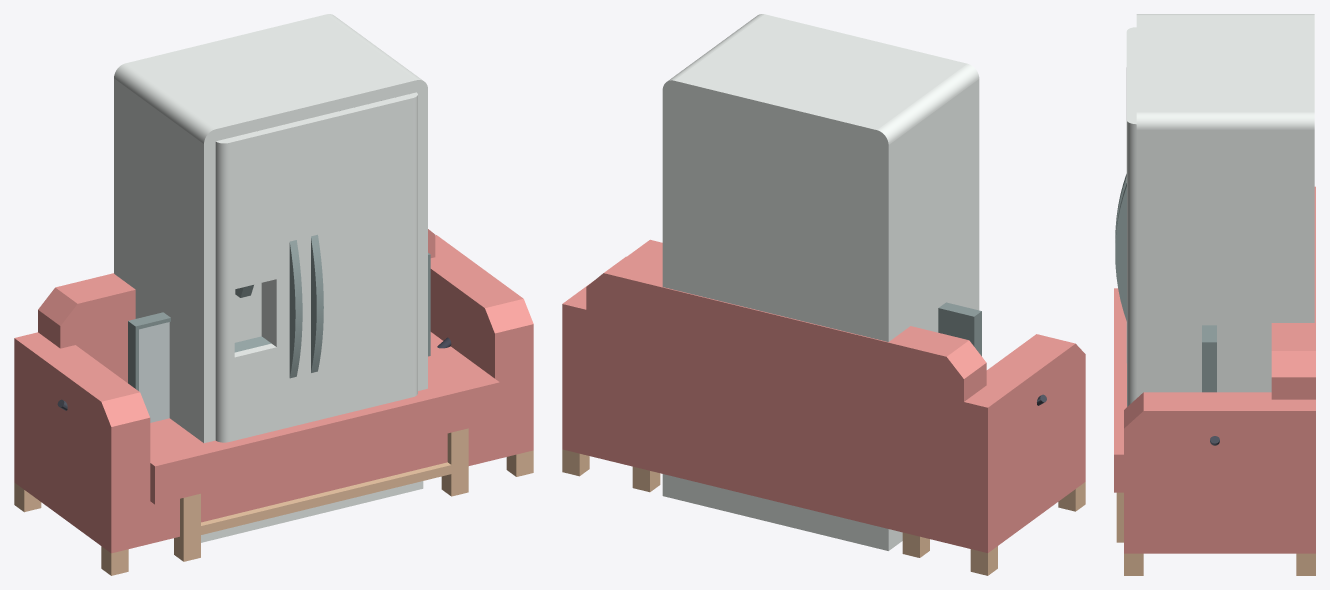
Rendered from ktv.glb.
3 renders of one model, left to right at view 1: azimuth 30°, elevation 25°; view 2: azimuth 150°, elevation 25°; view 3: azimuth 270°, elevation 25°, orthographic.
Parts seen in each view (by area): view 1: loungeSofa(Clone), Mesh kitchenFridgeLarge, doorRight, doorLeft, tableCoffee(Clone), televisionModern(Clone); view 2: loungeSofa(Clone), Mesh kitchenFridgeLarge, televisionModern(Clone), tableCoffee(Clone); view 3: Mesh kitchenFridgeLarge, loungeSofa(Clone), doorRight, televisionModern(Clone), doorLeft, tableCoffee(Clone).
Boxes of the visible parts, box(x1,y1,x2,y2) form: loungeSofa(Clone): box(14, 229, 533, 575); Mesh kitchenFridgeLarge: box(114, 14, 427, 542); doorRight: box(299, 92, 417, 423); doorLeft: box(215, 121, 303, 442); tableCoffee(Clone): box(174, 428, 468, 561); televisionModern(Clone): box(128, 253, 430, 422); loungeSofa(Clone): box(562, 239, 1085, 575); Mesh kitchenFridgeLarge: box(662, 14, 979, 550); televisionModern(Clone): box(938, 302, 981, 356); tableCoffee(Clone): box(632, 466, 929, 557); Mesh kitchenFridgeLarge: box(1136, 14, 1314, 397); loungeSofa(Clone): box(1114, 186, 1315, 575); doorRight: box(1115, 67, 1136, 406); televisionModern(Clone): box(1202, 325, 1216, 392); doorLeft: box(1115, 27, 1136, 362); tableCoffee(Clone): box(1116, 492, 1123, 542).
Bounding box in the file's own units: 1.01 × 0.92 × 0.41.
Materials: 11 (2 with a texture image).
